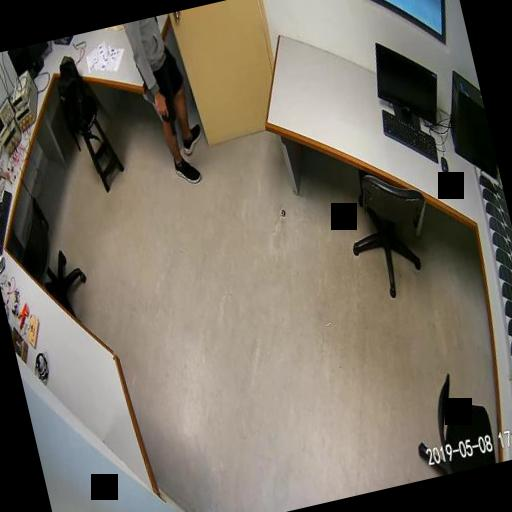Handgun: (154, 92, 178, 136)
